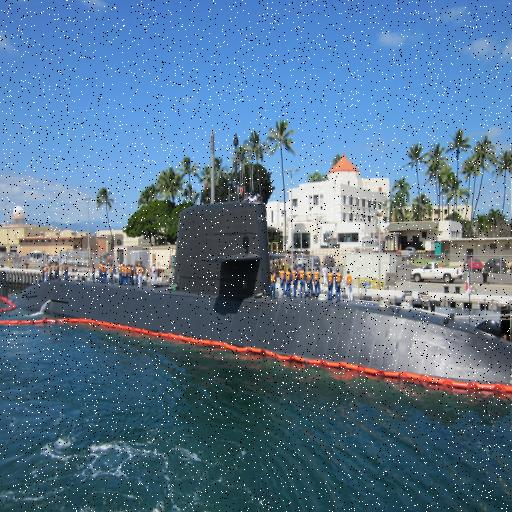submarine: (1, 132, 512, 396)
